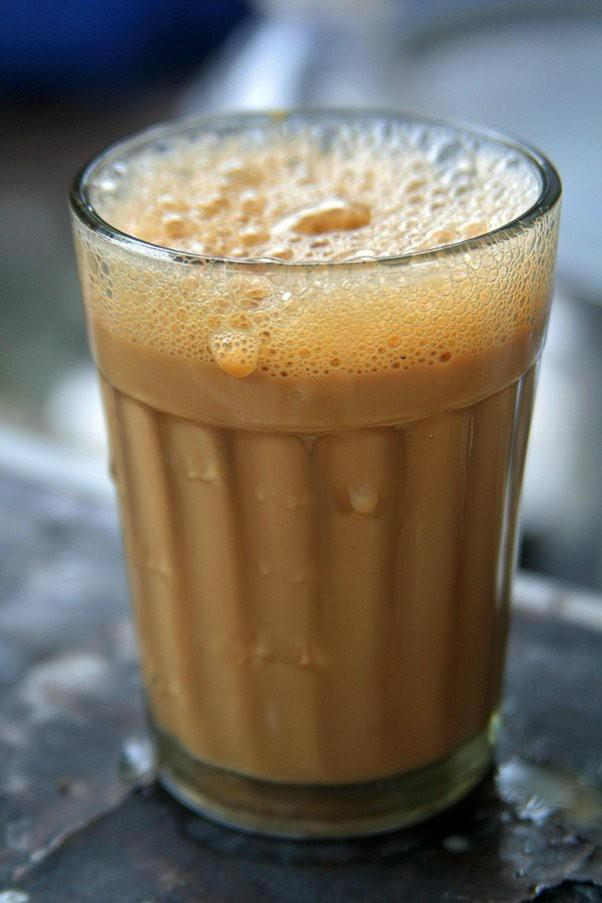Chai: (75, 119, 558, 786)
